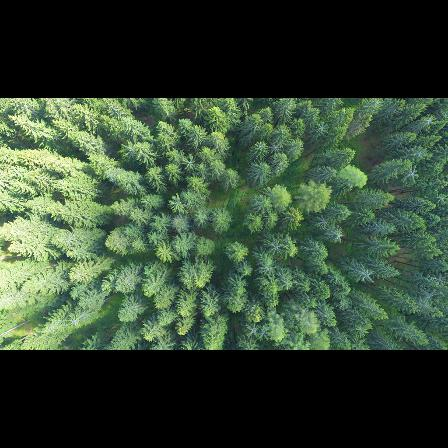Sick: (266, 238, 287, 257), (402, 166, 420, 186), (356, 267, 375, 284), (181, 154, 198, 173), (419, 113, 438, 130), (312, 121, 331, 137), (268, 139, 284, 157), (261, 261, 277, 277), (332, 228, 346, 243), (257, 328, 271, 343), (245, 325, 259, 338)
